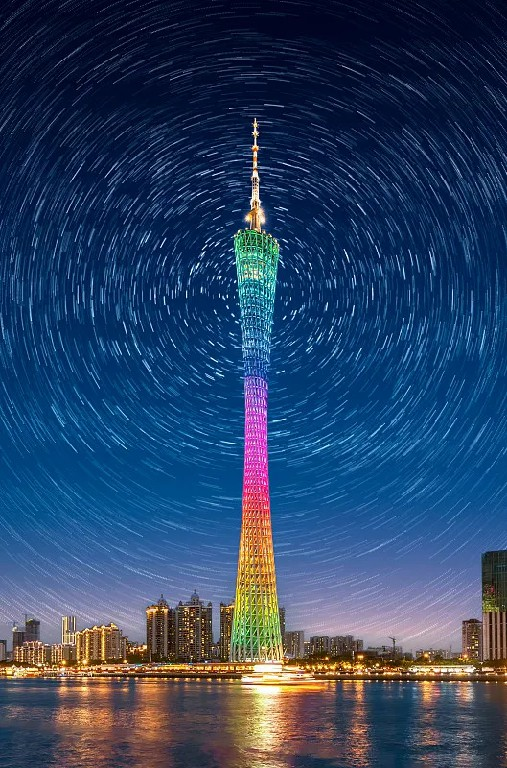Canton: (227, 118, 287, 665)
